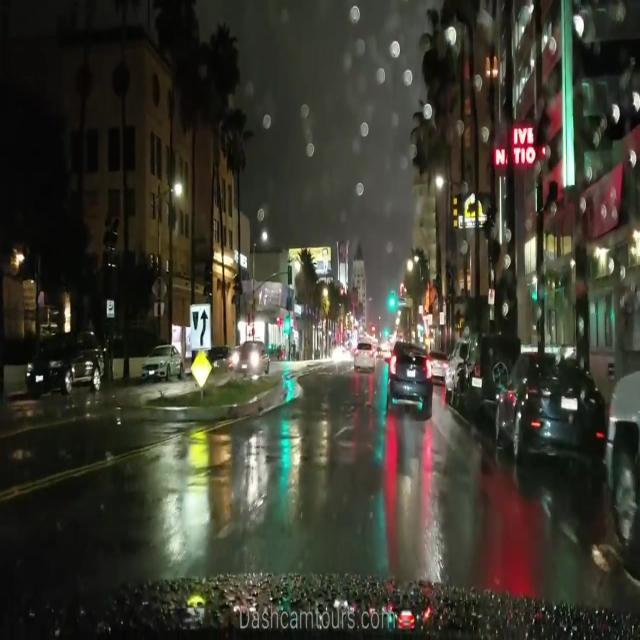Car: (494, 353, 605, 483), (21, 334, 102, 396), (455, 332, 506, 414), (386, 342, 431, 412), (142, 340, 183, 378), (230, 337, 269, 374), (353, 340, 375, 367)
